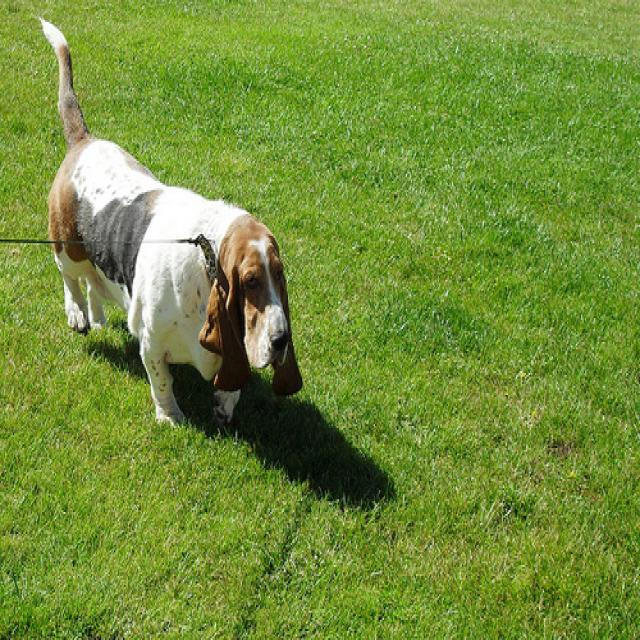dog-basset_hound: (27, 7, 306, 439)
